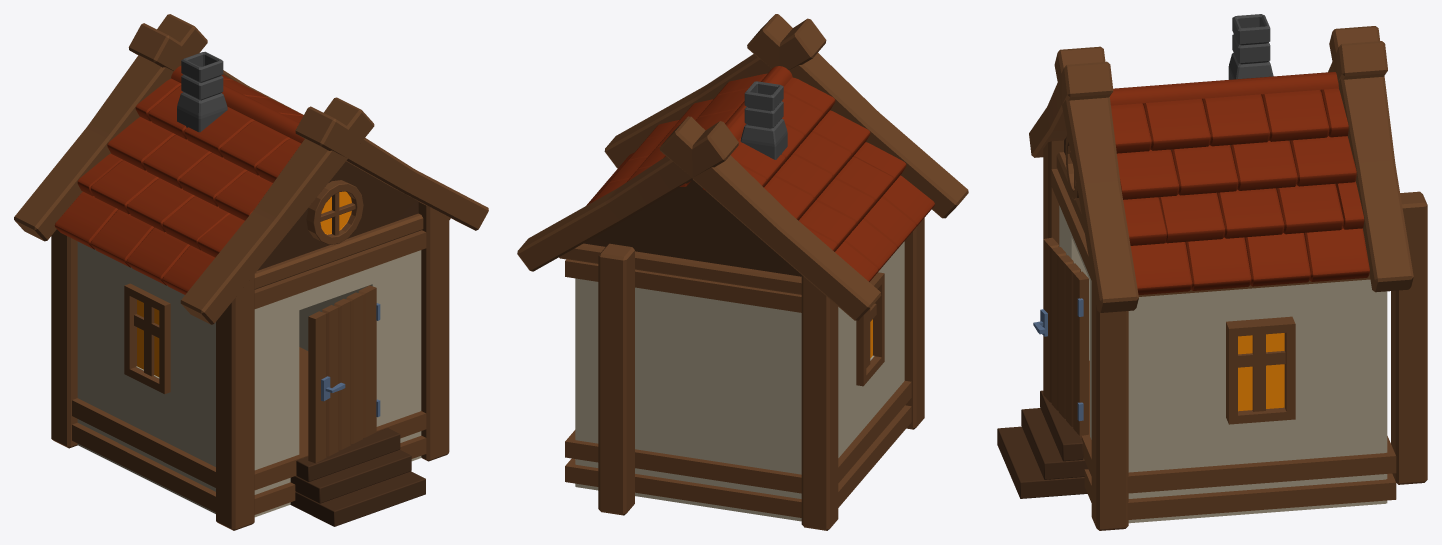
The model's file is House.fbx.
The picture shows the model from 3 angles, left to right: view 1: azimuth 30°, elevation 25°; view 2: azimuth 150°, elevation 25°; view 3: azimuth 270°, elevation 25°; orthographic projection. The views are drawn at different scales.
Parts seen in each view (by area): view 1: House.001; view 2: House.001; view 3: House.001.
Boxes of the visible parts, x1,y1,x2,y2 form: House.001: (14,14,488,530); House.001: (517,14,968,530); House.001: (997,14,1427,530).
Bounding box in the file's own units: 301 × 304 × 284.
